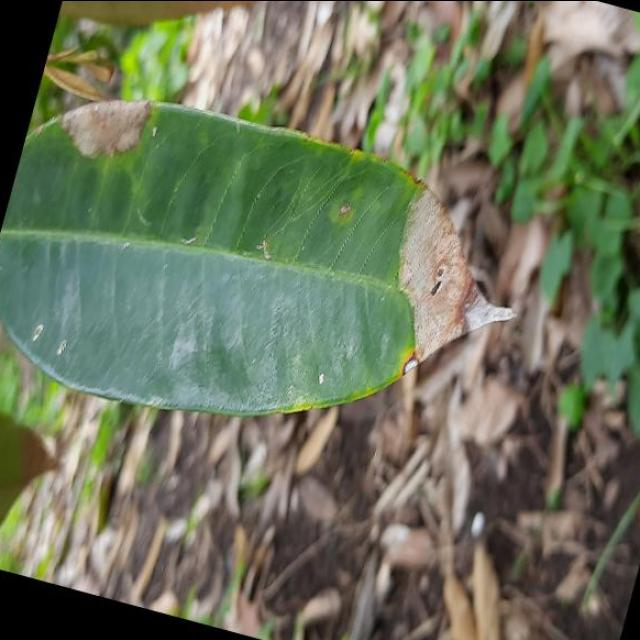Leaf Blight: (0, 55, 562, 509)
